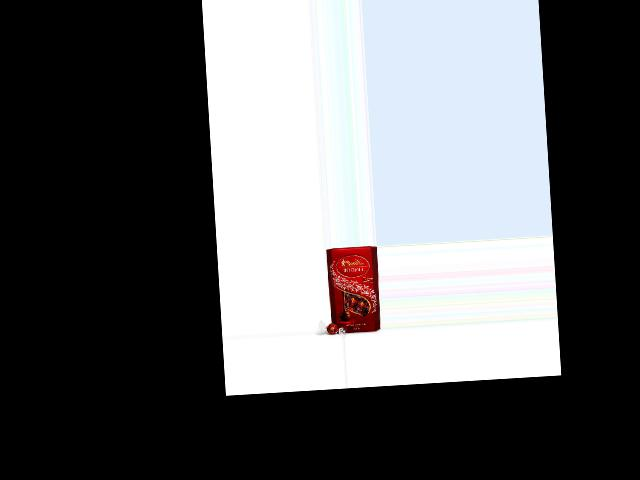chocolate: (321, 246, 380, 334)
